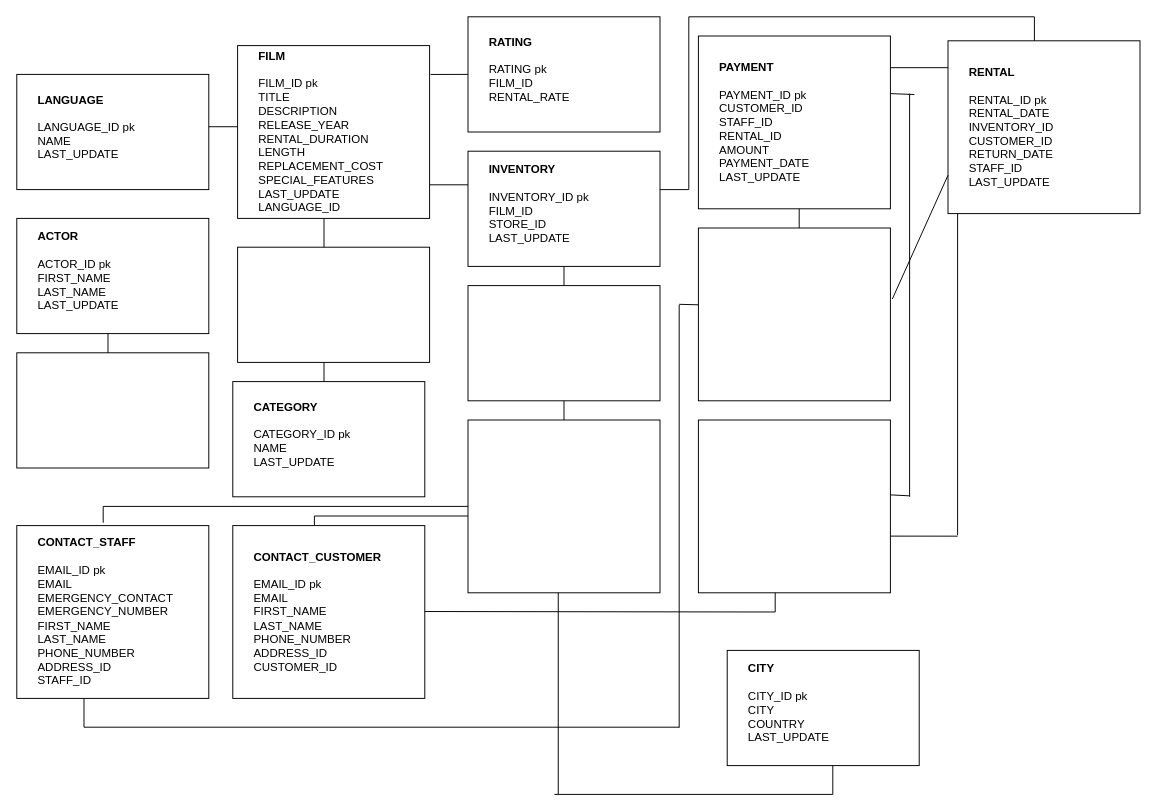
This 1157x812 diagram has some shape labels left out. The centre of each missing label's shape, as x and y in pixels:
ADDRESS ADDRESS_ID pk ADDRESS ADRESS2 DISTRICT CITY_ID POSTAL_CODE LAST_UPDATE: point (563, 506)
CUSTOMER CUSTOMER_ID pk STORE_ID ACTIVE CREATE_DATE EMAIL_ID LAST_UPDATE: point (793, 506)
FILM_ACTOR ACTOR_ID pk FILM_ID pk LAST_UPDATE: point (112, 410)
FILM_CATEGORY FILM_ID pk CATEGORY_ID pk LAST_UPDATE: point (333, 304)
STAFF STAFF_ID pk PICTURE STORE_ID ACTIVE USERNAME PASSWORD EMAIL_ID LAST_UPDATE: point (793, 314)
STORE STORE_ID pk MANAGER_STAFF_ID ADDRESS_ID LAST_UPDATE: point (563, 343)
